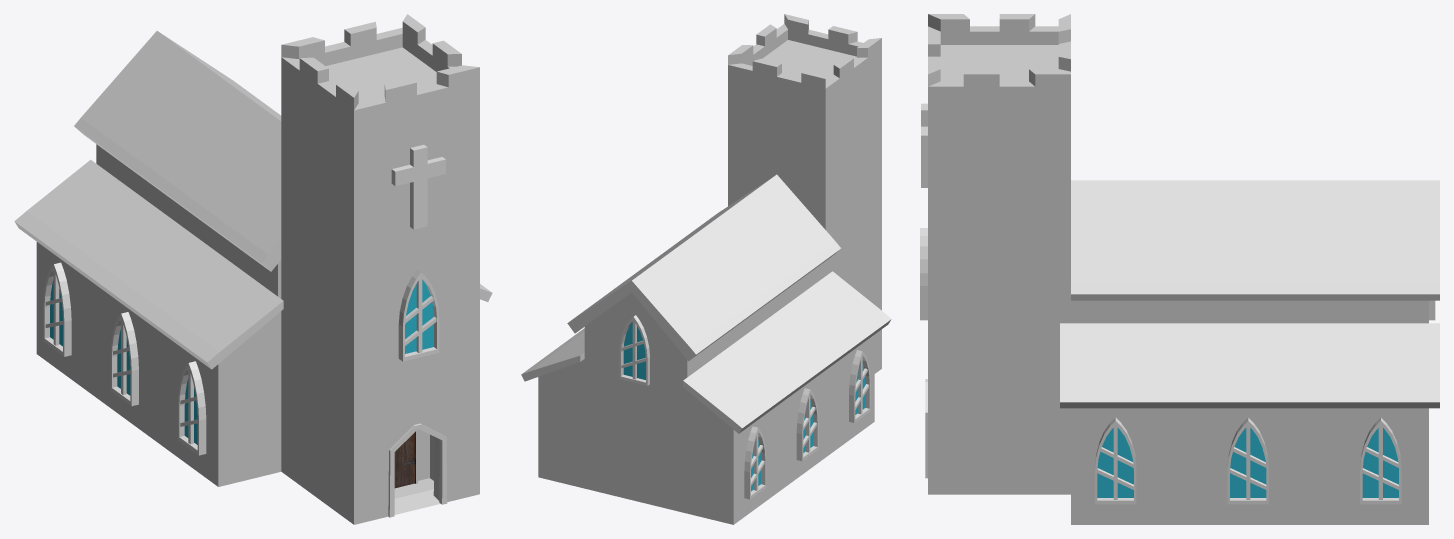
Rendered from Church.fbx.
3 renders of one model, left to right at view 1: azimuth 30°, elevation 25°; view 2: azimuth 150°, elevation 25°; view 3: azimuth 270°, elevation 25°, orthographic. The views are drawn at different scales.
Parts seen in each view (by area): view 1: Church; view 2: Church; view 3: Church.
Boxes of the visible parts, left/top/right/bottom form: Church: left=14, top=14, right=492, bottom=524; Church: left=521, top=14, right=891, bottom=524; Church: left=920, top=14, right=1439, bottom=524.
Size of the model in its own units: 424 by 606 by 680.
Materials: 5 (1 with a texture image).
